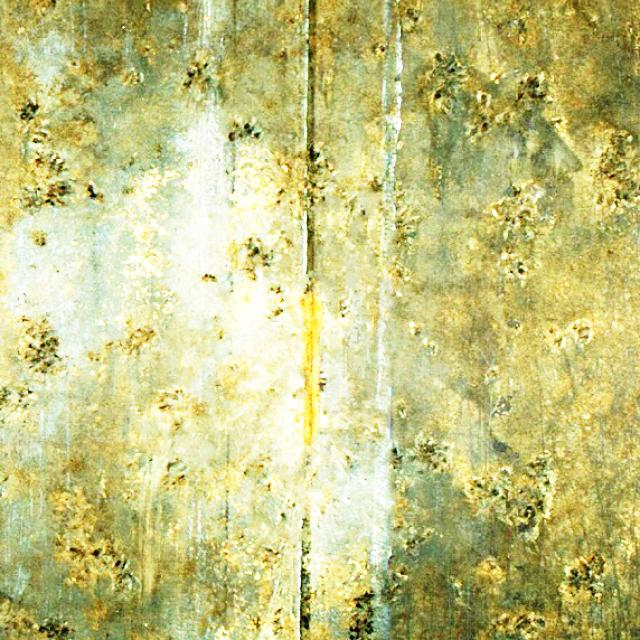Corrosion: (296, 289, 325, 447)
